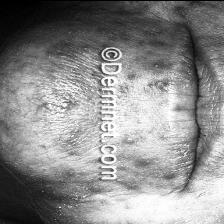Non-Cancerous Skin Condition: (115, 0, 224, 224), (21, 37, 108, 185)
